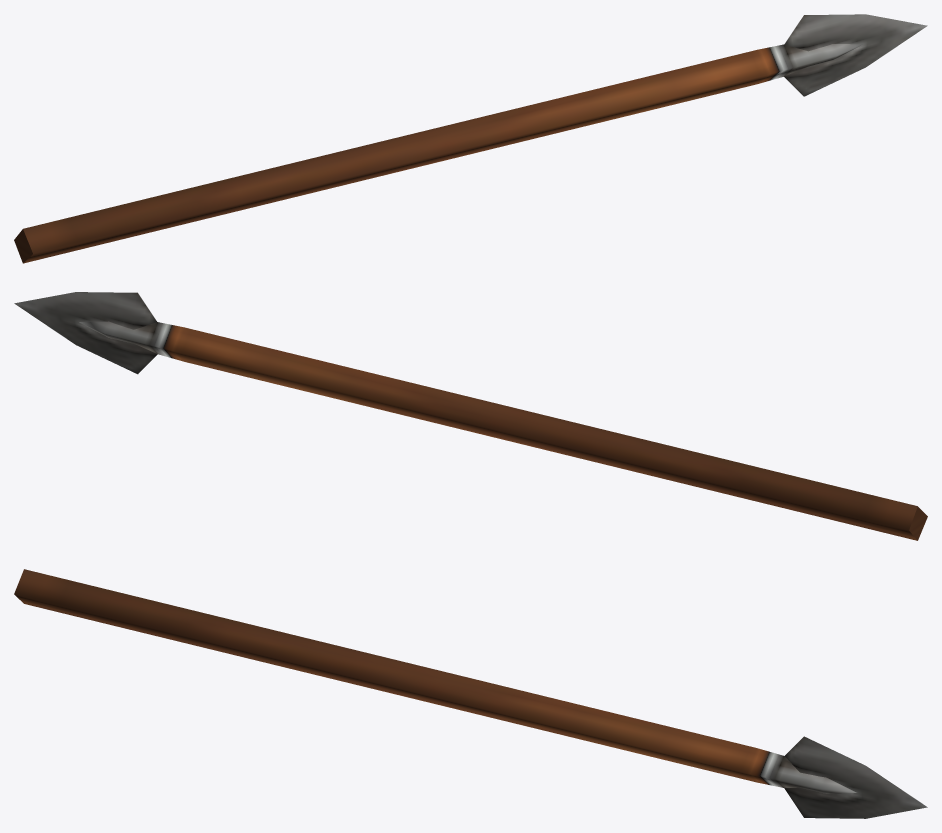
The model's file is BRB_weapon_spear.FBX.glb.
3 renders of one model, top to bottom at view 1: azimuth 30°, elevation 25°; view 2: azimuth 150°, elevation 25°; view 3: azimuth 330°, elevation 25°, orthographic.
Parts seen in each view (by area): view 1: BRB_weapon_spear; view 2: BRB_weapon_spear; view 3: BRB_weapon_spear.
Boxes of the visible parts, bbox=[...] form: BRB_weapon_spear: bbox=[14, 14, 927, 263]; BRB_weapon_spear: bbox=[14, 292, 927, 540]; BRB_weapon_spear: bbox=[14, 569, 927, 818].
Size of the model in its own units: 63969 by 5521 by 2335.
1 material, 1 textured.
